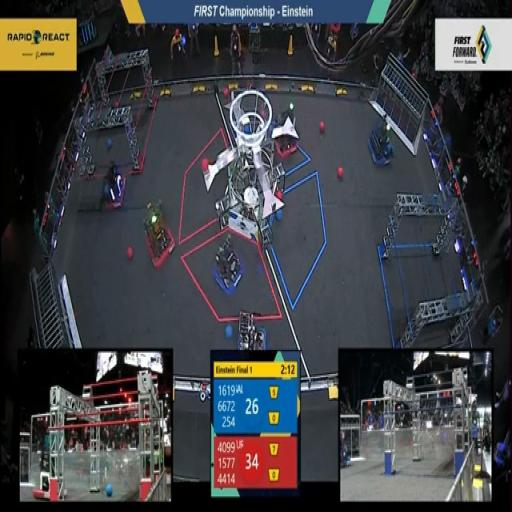robot: (136, 193, 177, 269), (206, 232, 246, 294), (271, 96, 301, 164), (92, 156, 128, 212), (229, 303, 270, 351), (364, 108, 396, 169)
